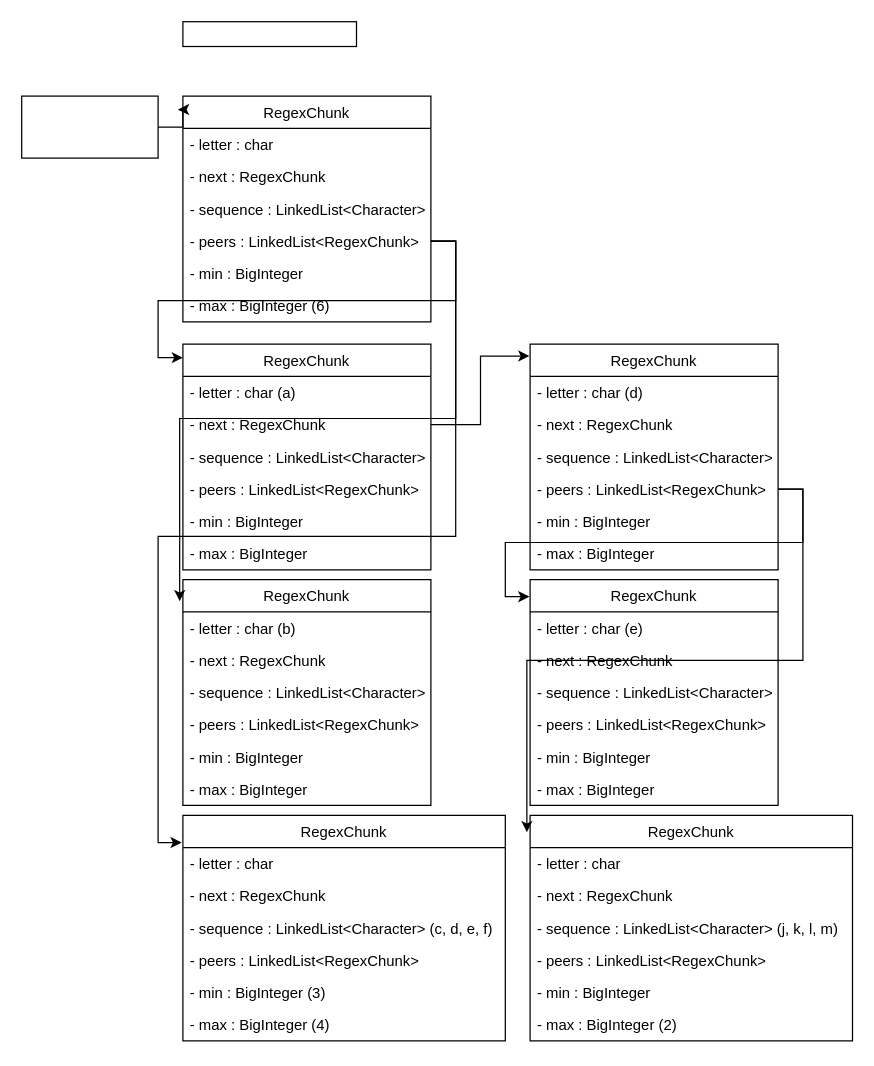
Some shapes in this 874 by 1066 pixel diagram are drawn without their labels. Here are the shapes that lost their labels. From the top down, the box of each, then its label:
(182, 20, 356, 46): (ab[c-f]{3,4}|de[j-m]{2}){6}
(20, 95, 158, 158): Head
